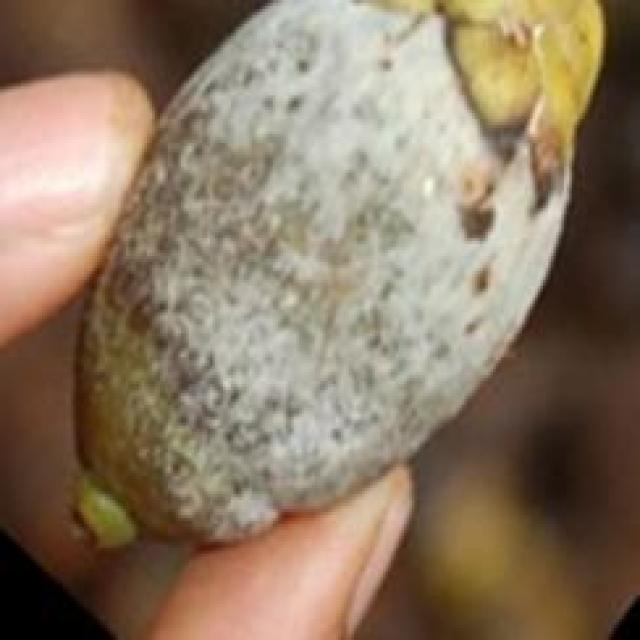damaged: (60, 3, 606, 631)
